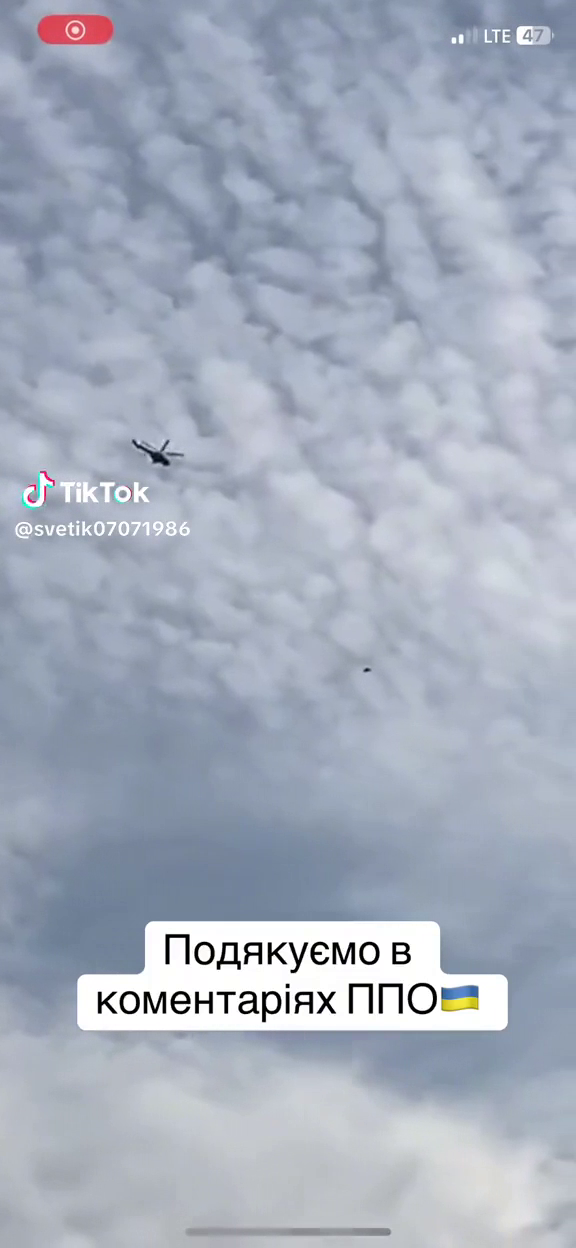not_drone: (130, 431, 186, 470)
